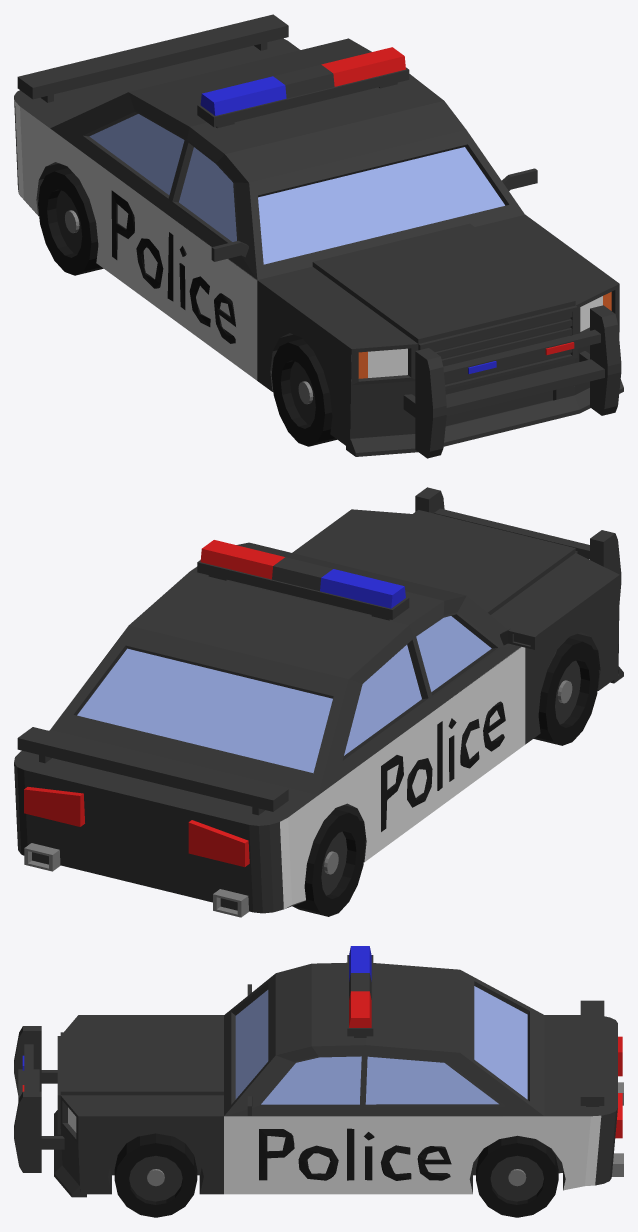
Rendered from PoliceCar.fbx.
3 views of the same model, one above another, from view 1: azimuth 30°, elevation 25°; view 2: azimuth 150°, elevation 25°; view 3: azimuth 270°, elevation 25° (orthographic). The views are drawn at different scales.
Visible parts, largest first — view 1: Main, FRightTire, RRightTire; view 2: Main, RRightTire, FRightTire; view 3: Main, FLeftTire, RLeftTire.
Part boxes in pixels (x1,y1,x2,y2): Main: (14, 14, 623, 458); FRightTire: (271, 339, 336, 446); RRightTire: (38, 168, 103, 275); Main: (14, 487, 623, 917); RRightTire: (292, 809, 365, 916); FRightTire: (533, 638, 599, 745); Main: (14, 946, 623, 1197); FLeftTire: (114, 1133, 197, 1217); RLeftTire: (476, 1135, 558, 1217).
Bounding box in the file's own units: 167 × 117 × 352.
